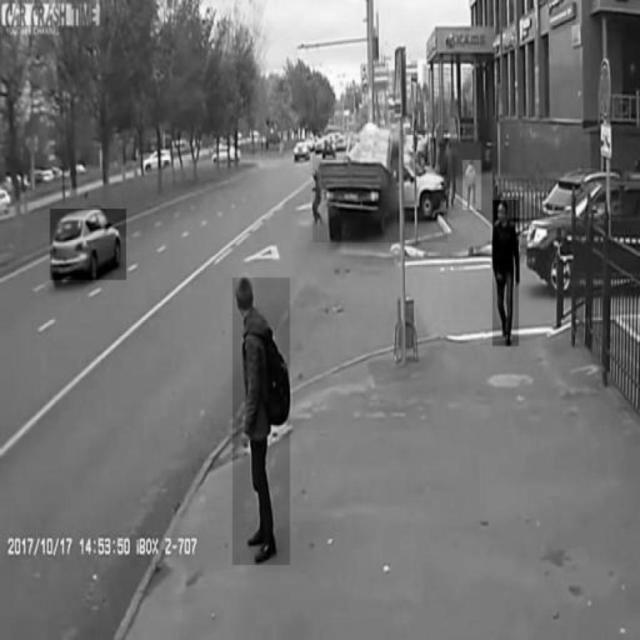accident: (313, 130, 447, 242)
person: (233, 277, 290, 565), (493, 200, 519, 346), (463, 160, 481, 210)
vehicle: (530, 172, 640, 296), (50, 209, 126, 280)
